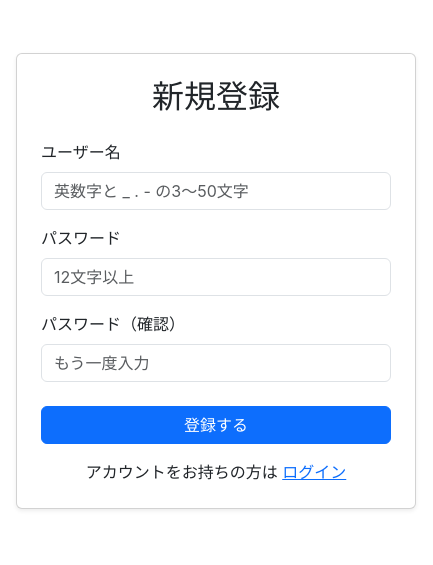
Test case: RegisterPage › ユーザー名が使われている場合はサーバの文言を見せる
Type "new_user" into the field labelled "ユーザー名" at (216, 191), box x1=41 y1=172 x2=391 y2=210
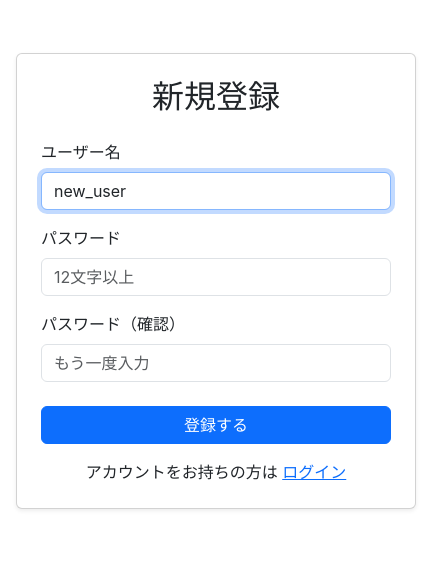
Type "abcdefghijkl" into the password field labelled "パスワード" at (216, 277), box x1=41 y1=258 x2=391 y2=296
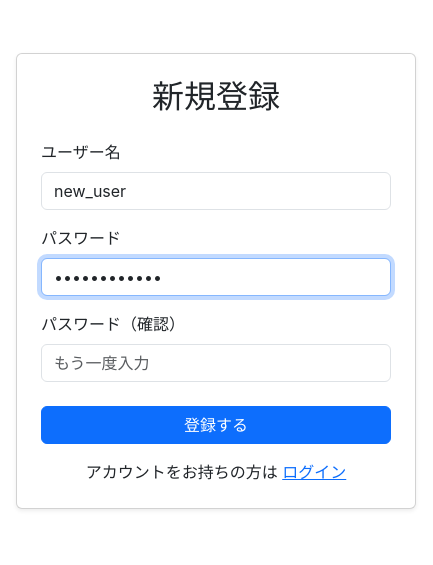
Type "abcdefghijkl" into the password field labelled "パスワード（確認）" at (216, 363), box x1=41 y1=344 x2=391 y2=382
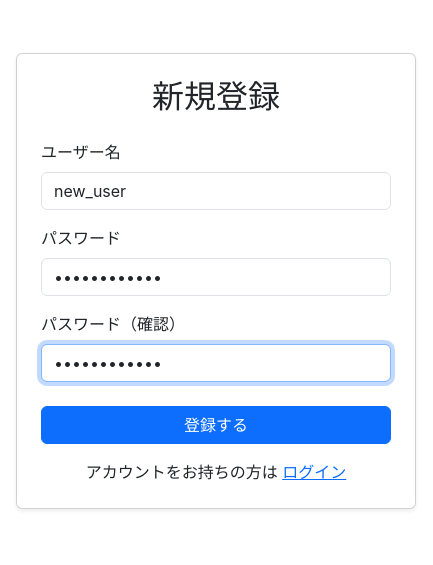
Click the button "登録する" at (216, 425), box x1=41 y1=406 x2=391 y2=444
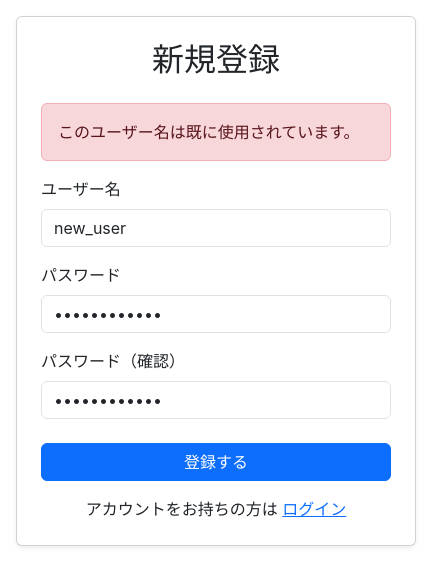
Expected: the message reads "このユーザー名は既に使用されています。", x1=58 y1=122 x2=360 y2=142
